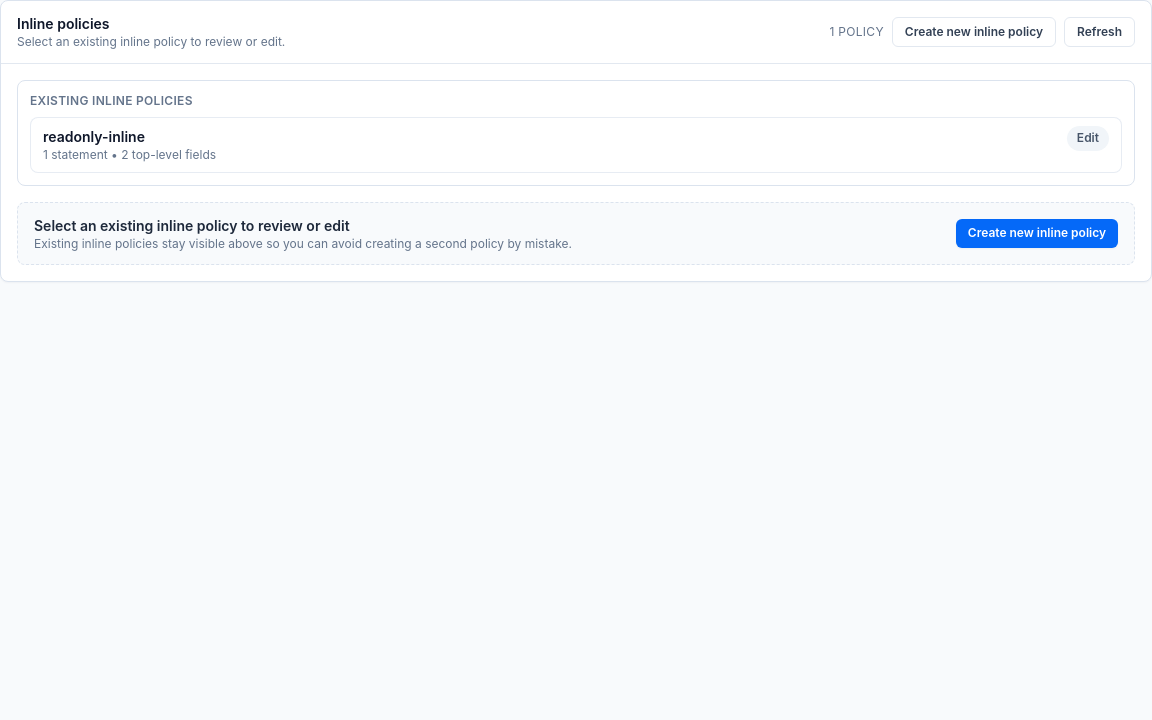
Test: InlinePolicyEditor › loads an existing inline policy into the editor and switches the CTA to update
This screenshot has width=1152, height=720.
What coordinates should you click on to do the following:
click the button "readonly-inline 1 statement • 2 top-level fields Edit"
I would click on:
 (94, 136)
Its box is 30,117 -> 1122,172.
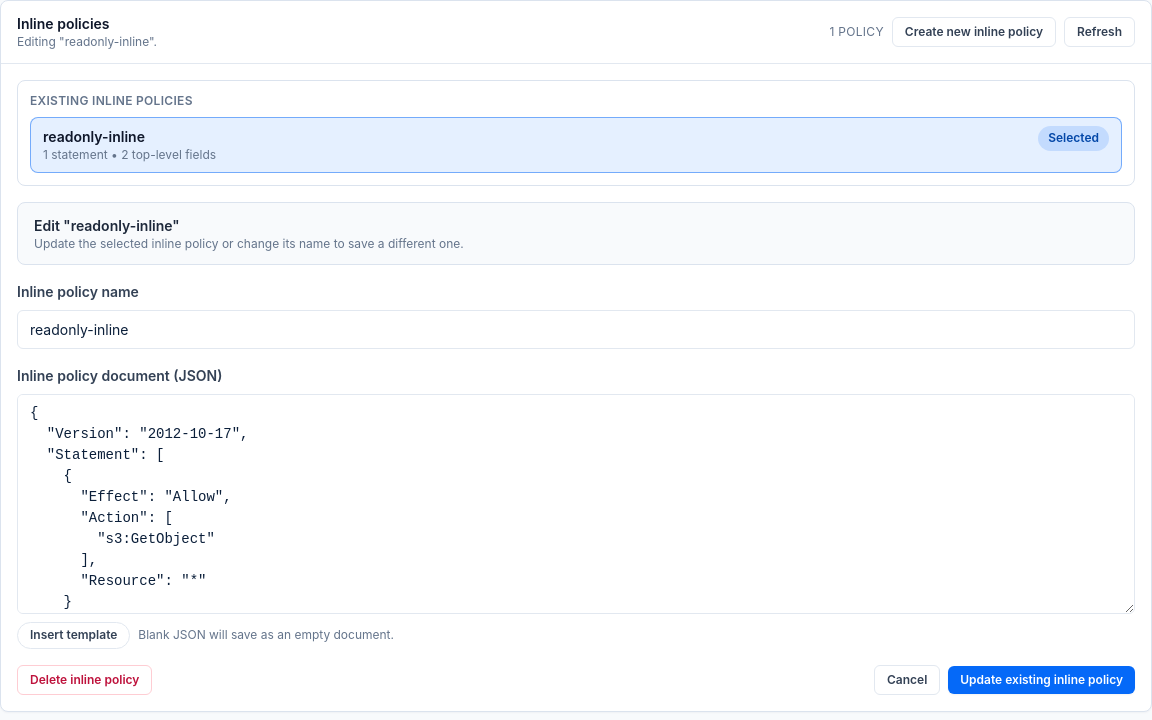
Expected: the field labelled "Inline policy name" holds "readonly-inline", 17,310 -> 1135,349
Expected: the button "Update existing inline policy" is shown, 948,666 -> 1135,694
